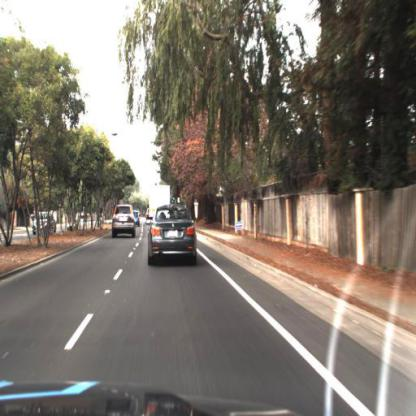car: (147, 201, 201, 272), (111, 203, 138, 244), (148, 183, 175, 223), (30, 208, 57, 238), (133, 206, 145, 232)
truck: (145, 183, 173, 234)
